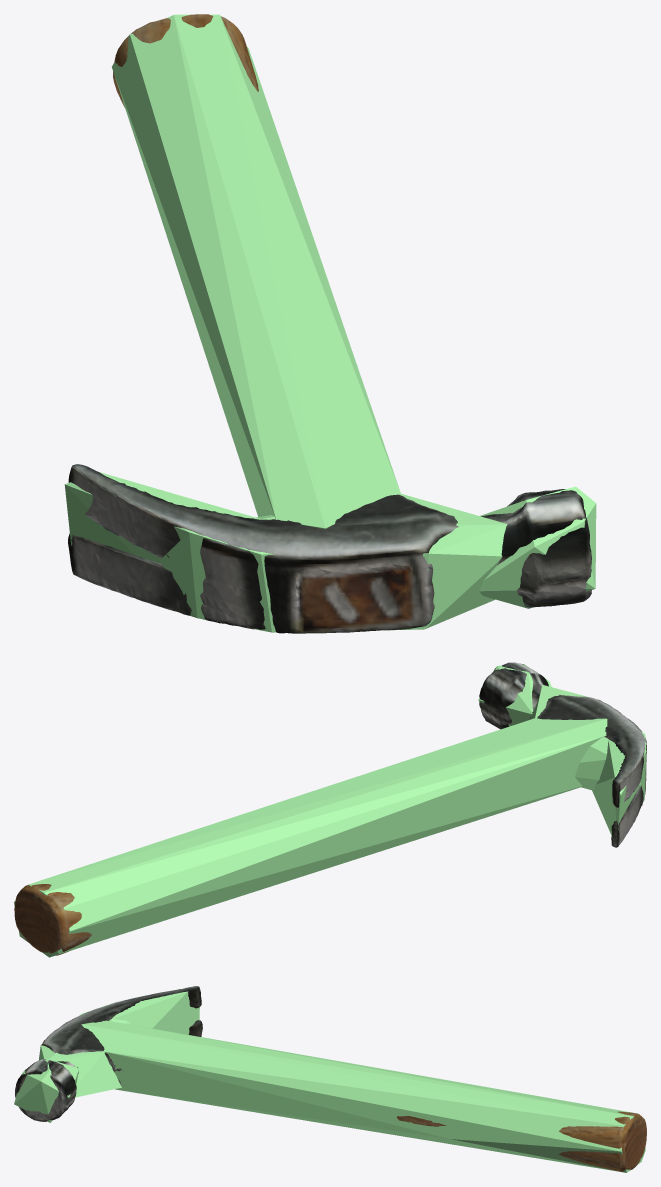
Rendered from hammer_dyn.obj.
The picture shows the model from 3 angles, top to bottom: view 1: azimuth 30°, elevation 25°; view 2: azimuth 150°, elevation 25°; view 3: azimuth 270°, elevation 25°; orthographic projection. The views are drawn at different scales.
Size of the model in its own units: 0.092 by 0.0164 by 0.1666.
Materials: 5 (1 with a texture image).
